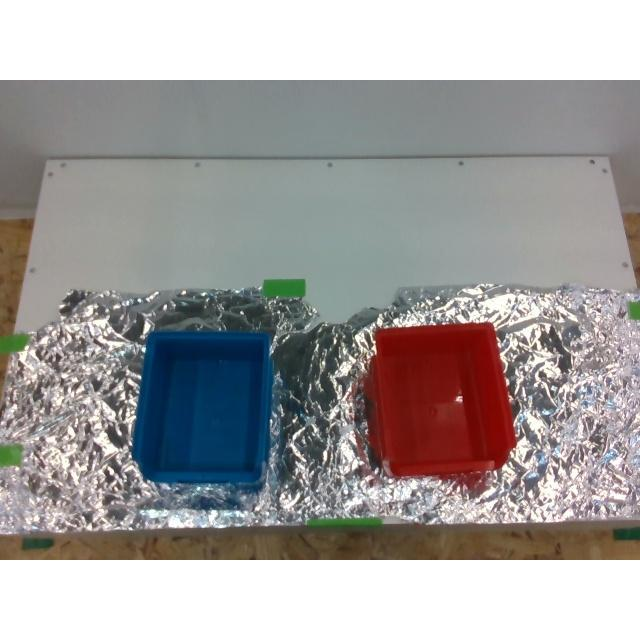container_box_blue: (133, 331, 271, 485)
container_box_red: (365, 324, 515, 476)
